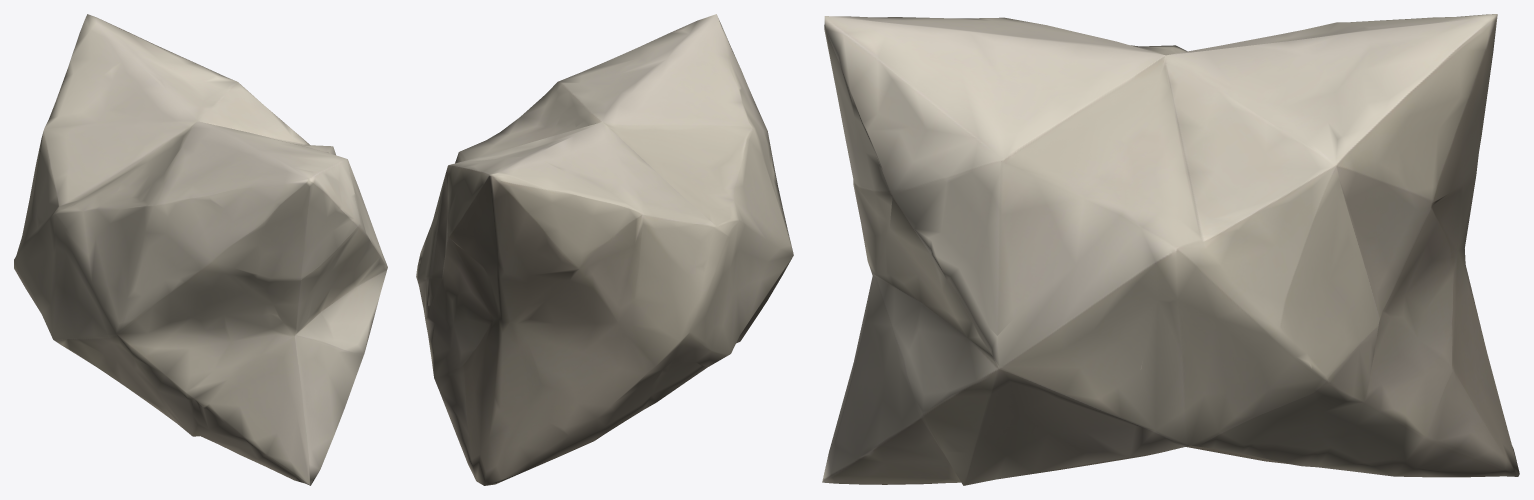
Rendered from polygonal+pillow+3d+model.glb.
The picture shows the model from 3 angles, left to right: view 1: azimuth 30°, elevation 25°; view 2: azimuth 150°, elevation 25°; view 3: azimuth 270°, elevation 25°; orthographic projection. The views are drawn at different scales.
Parts seen in each view (by area): view 1: tripo_node_8d74d593-3e45-4fca-859c-af431e6bd4ce; view 2: tripo_node_8d74d593-3e45-4fca-859c-af431e6bd4ce; view 3: tripo_node_8d74d593-3e45-4fca-859c-af431e6bd4ce.
Boxes of the visible parts, x1=… form: tripo_node_8d74d593-3e45-4fca-859c-af431e6bd4ce: x1=14, y1=14, x2=387, y2=485; tripo_node_8d74d593-3e45-4fca-859c-af431e6bd4ce: x1=416, y1=14, x2=793, y2=485; tripo_node_8d74d593-3e45-4fca-859c-af431e6bd4ce: x1=822, y1=14, x2=1519, y2=485.
Size of the model in its own units: 0.6981 by 0.7405 by 1.
Materials: 1 (1 with a texture image).
